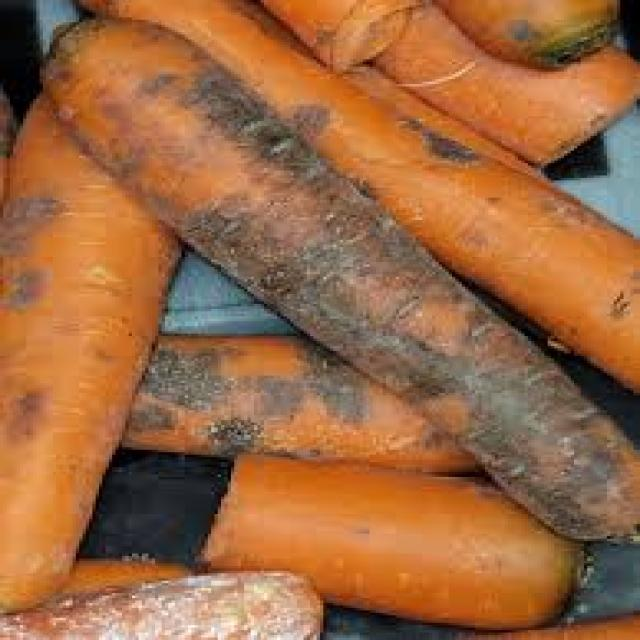Stale_Carrot: (45, 24, 637, 539), (95, 4, 639, 388), (2, 96, 179, 611), (124, 338, 477, 473)
